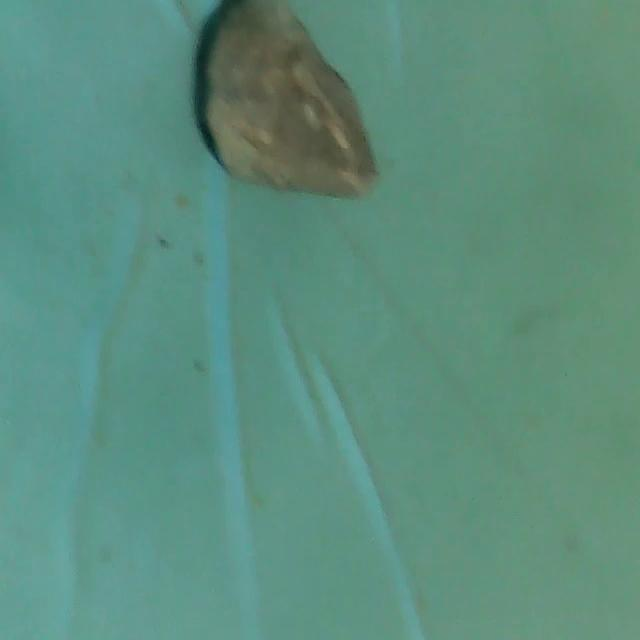rock: (187, 8, 400, 208)
